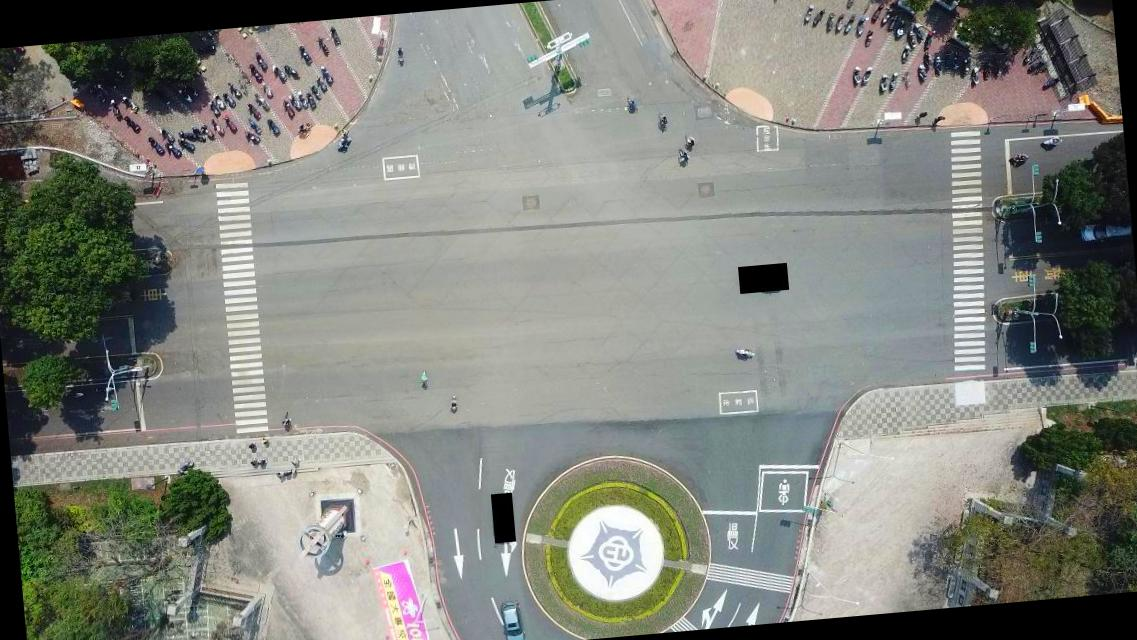vehicle: (1079, 216, 1131, 245), (500, 600, 528, 639)
